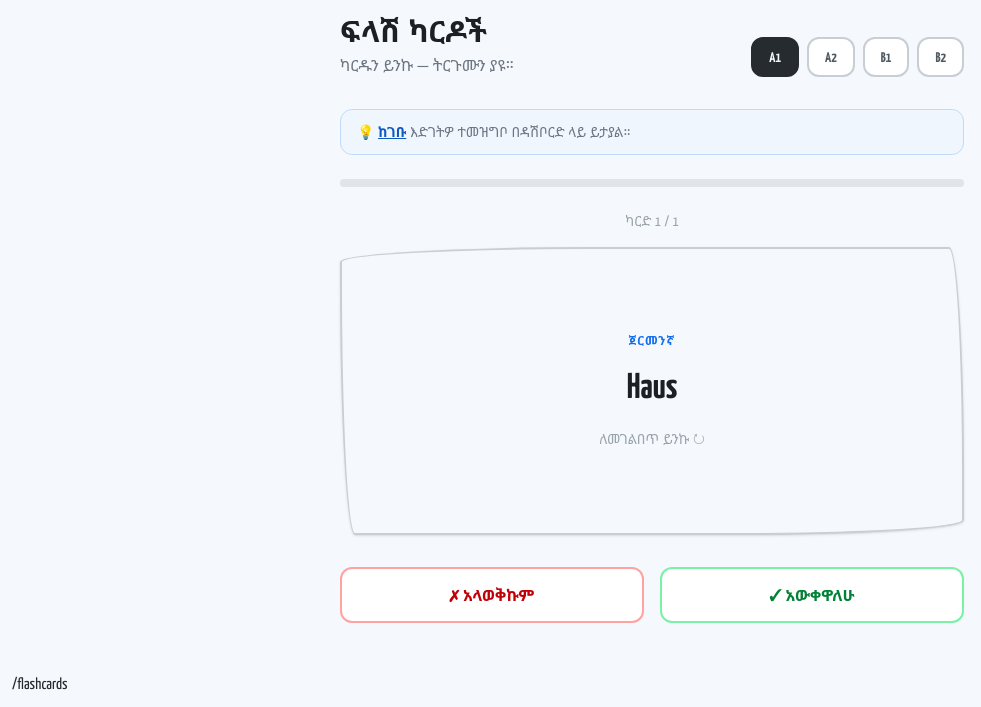
Flashcards › lets a guest practise without sending any progress
Expected: the text "ካርድ 1 / 1" is shown, [625, 211, 679, 230]
Click the button "✓ አውቀዋለሁ".
click(812, 595)  # box [660, 567, 964, 623]
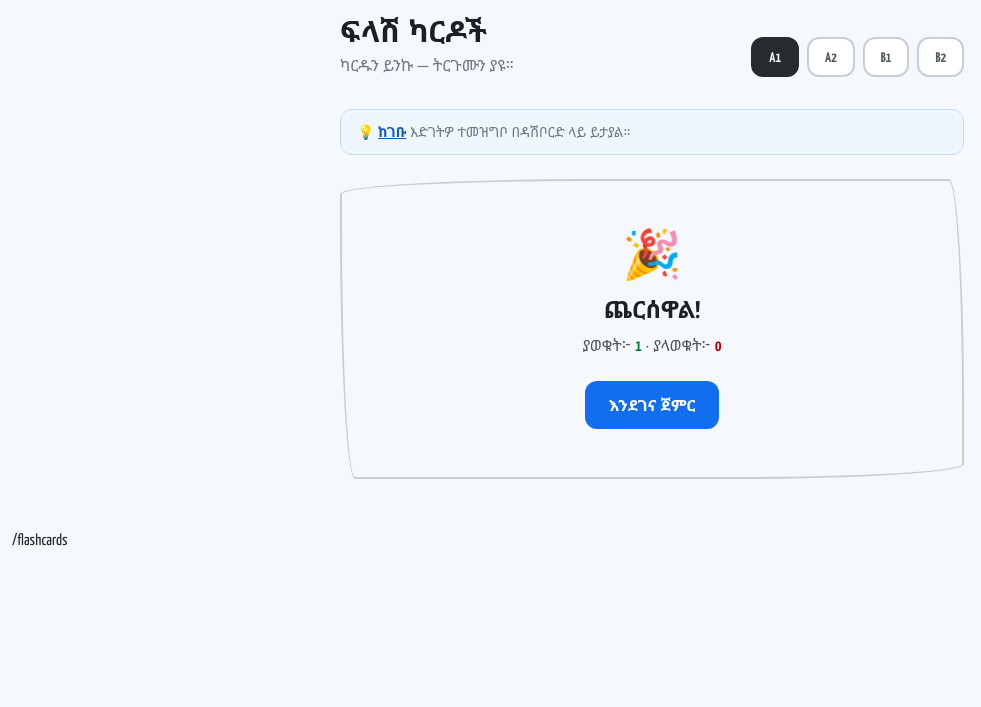
Result: the heading "ጨርሰዋል!" is shown at [604, 292, 700, 325]
Click the button "እንደገና ጀምር".
click(652, 405)  # box [585, 381, 719, 429]
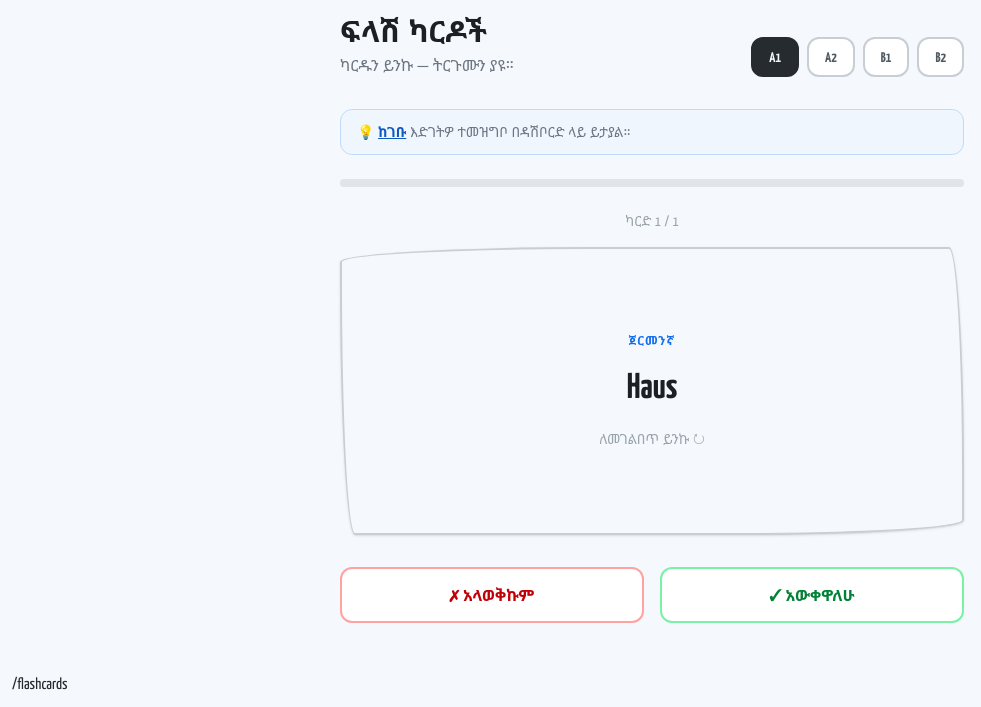
Result: the text "ካርድ 1 / 1" is shown at [625, 211, 679, 230]
